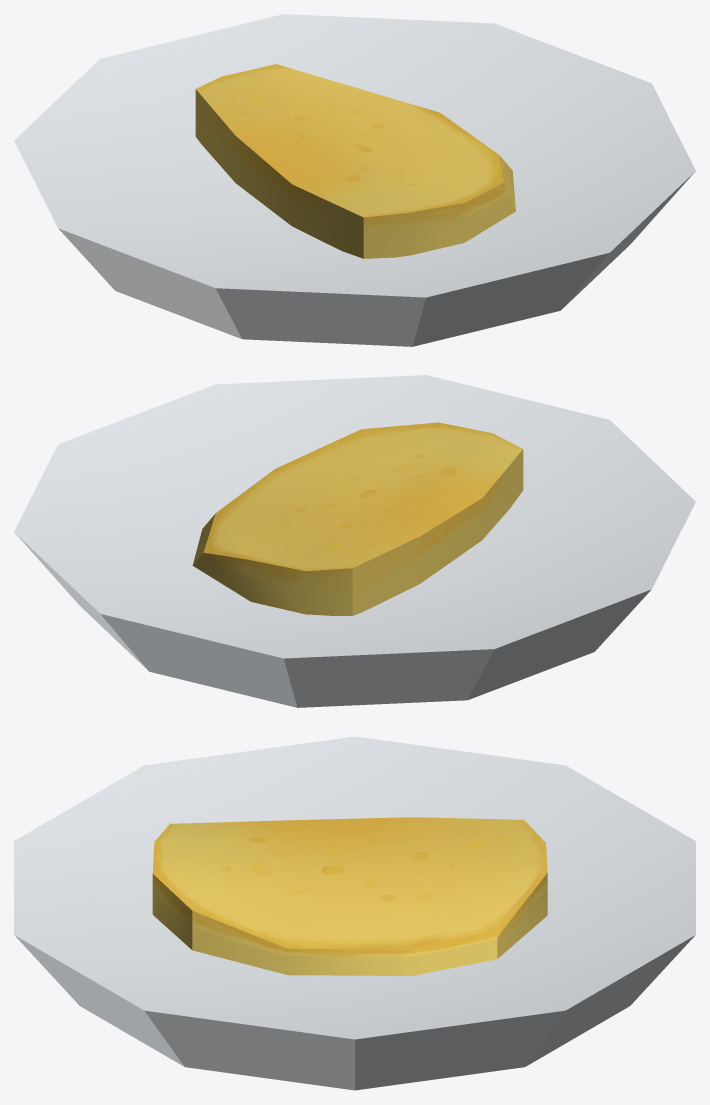
Rendered from omellete.fbx.
3 views of the same model, one above another, from view 1: azimuth 30°, elevation 25°; view 2: azimuth 150°, elevation 25°; view 3: azimuth 270°, elevation 25° (orthographic). The views are drawn at different scales.
Visible parts, largest first — view 1: omellete; view 2: omellete; view 3: omellete.
Boxes of the visible parts, x1,y1,x2,y2 form: omellete: (14,14,695,346); omellete: (14,375,695,707); omellete: (14,736,695,1090).
Bounding box in the file's own units: 41.89 × 6.98 × 39.84.
Materials: 1 (1 with a texture image).
